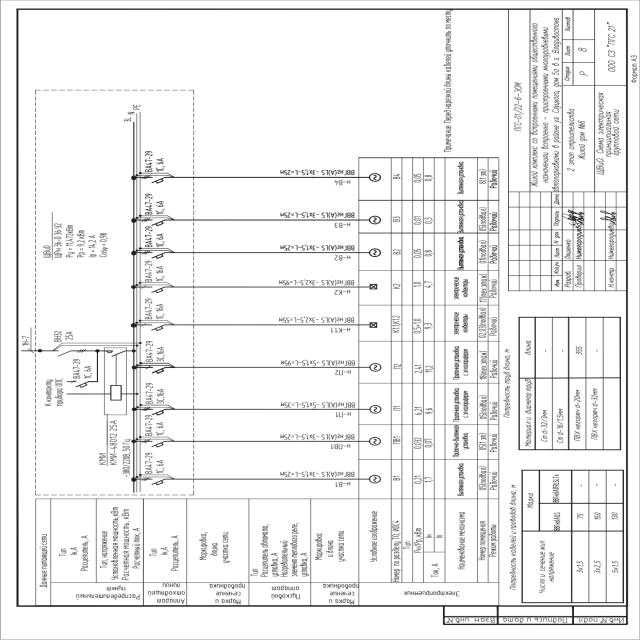-: (144, 149, 167, 173), (144, 413, 166, 438), (144, 192, 166, 216), (144, 224, 166, 248), (144, 338, 166, 362), (142, 296, 164, 320), (145, 381, 167, 405), (144, 258, 166, 282), (144, 450, 166, 474), (108, 419, 118, 466), (72, 358, 94, 379), (52, 222, 64, 260), (52, 330, 74, 342)
KM: (105, 348, 126, 402)
QF: (141, 251, 167, 261), (140, 284, 166, 294), (140, 323, 166, 333), (144, 366, 170, 376), (141, 406, 167, 416), (142, 439, 168, 449), (142, 477, 168, 487), (140, 176, 166, 186), (141, 218, 167, 228), (69, 379, 90, 389)
QS: (56, 348, 88, 356)
